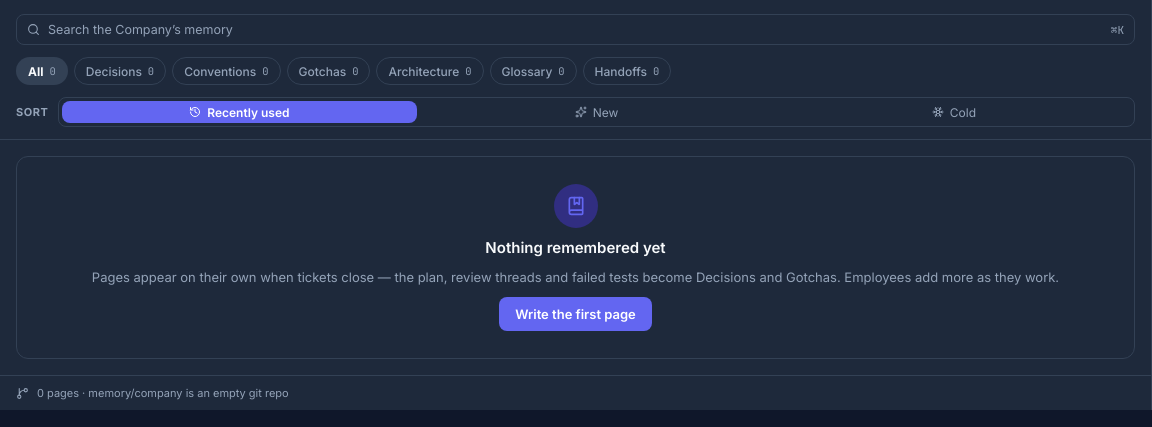
Scenario: the list › offers the first page only to a Company that has written none
Click the button "Write the first page".
click(576, 314)  # box [499,297,652,331]
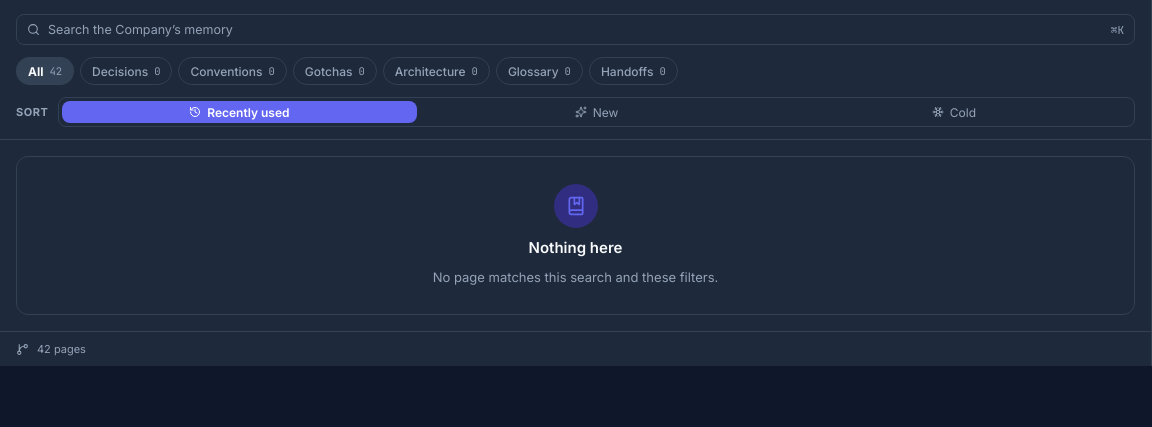
Check: the text "Nothing here" is shown, box [529,238,622,257]
